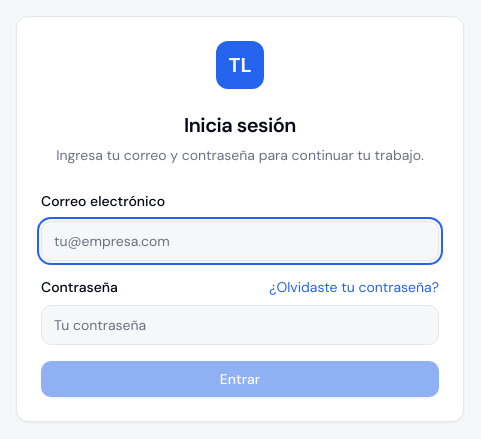
Scenario: LoginForm › shows loading state while submitting
The width and height of the screenshot is (481, 439).
Type "test@example.com" into the field labelled "Correo electrónico".
click(240, 241); type("test@example.com")  # box [41,221,439,261]
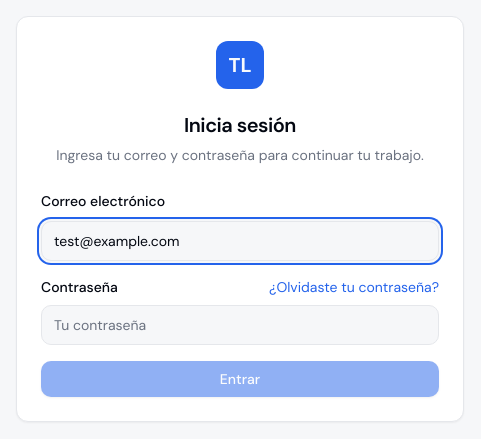
Type "password123" into the password field labelled "Contraseña".
click(240, 325); type("password123")  # box [41,305,439,345]
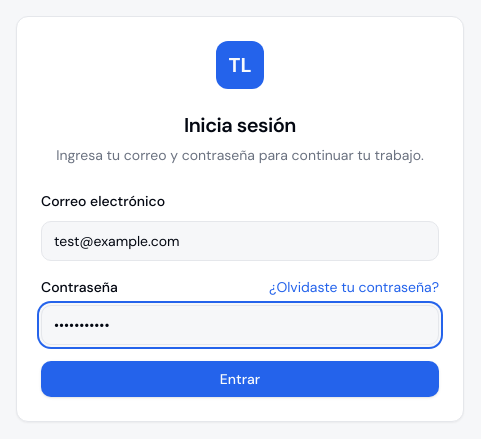
Click the button "Entrar".
click(240, 379)  # box [41,361,439,397]
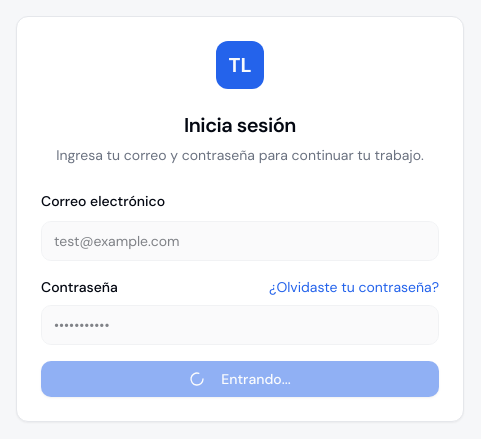
Expected: the button "Entrando..." is shown, [41,361,439,397]
